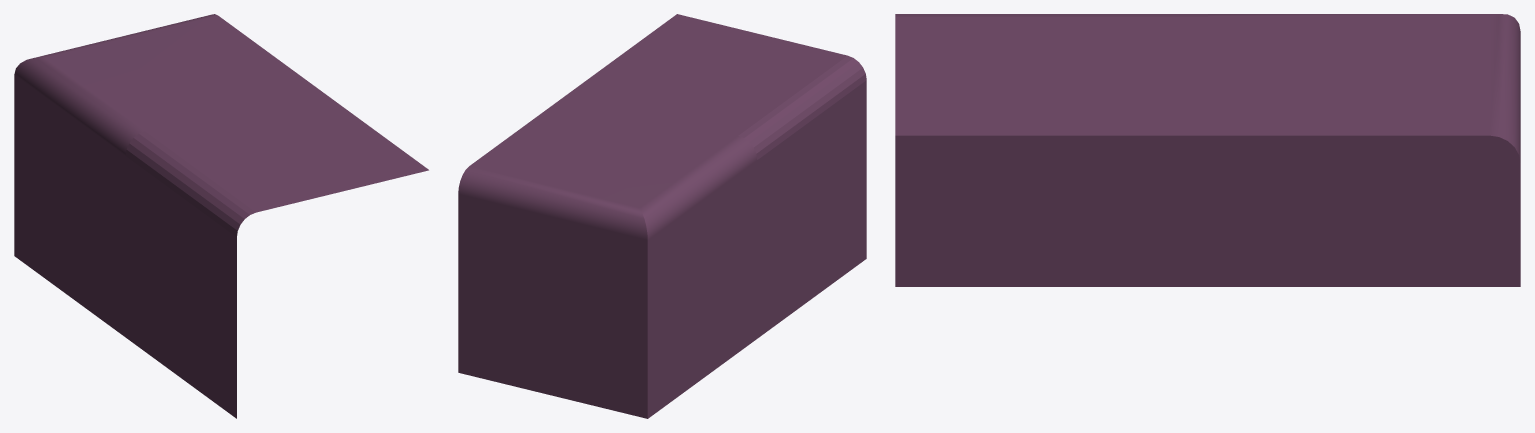
Rendered from Mesh_bog_Large_end_01.fbx.
The picture shows the model from 3 angles, left to right: view 1: azimuth 30°, elevation 25°; view 2: azimuth 150°, elevation 25°; view 3: azimuth 270°, elevation 25°; orthographic projection. The views are drawn at different scales.
Visible parts, largest first — view 1: Mesh_bog_Large_end_01; view 2: Mesh_bog_Large_end_01; view 3: Mesh_bog_Large_end_01.
Boxes of the visible parts, bbox=[...] form: Mesh_bog_Large_end_01: bbox=[14, 14, 428, 418]; Mesh_bog_Large_end_01: bbox=[458, 14, 866, 418]; Mesh_bog_Large_end_01: bbox=[895, 14, 1520, 286].
Bounding box in the file's own units: 4 × 4 × 8.
